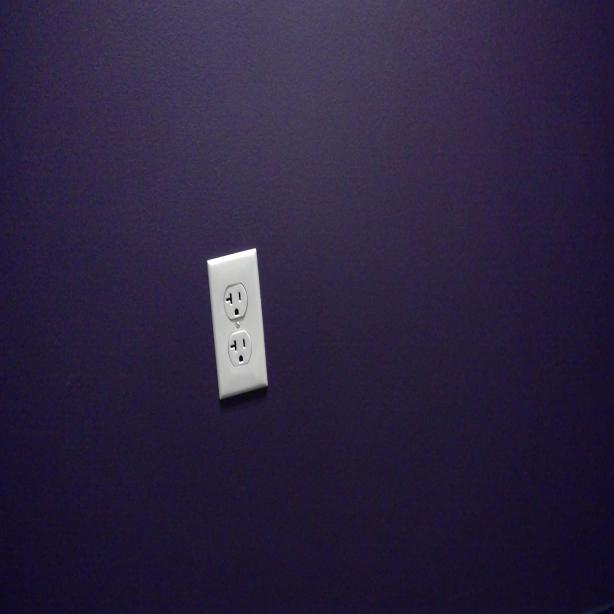typeb: (228, 334, 252, 366), (224, 285, 246, 319)
